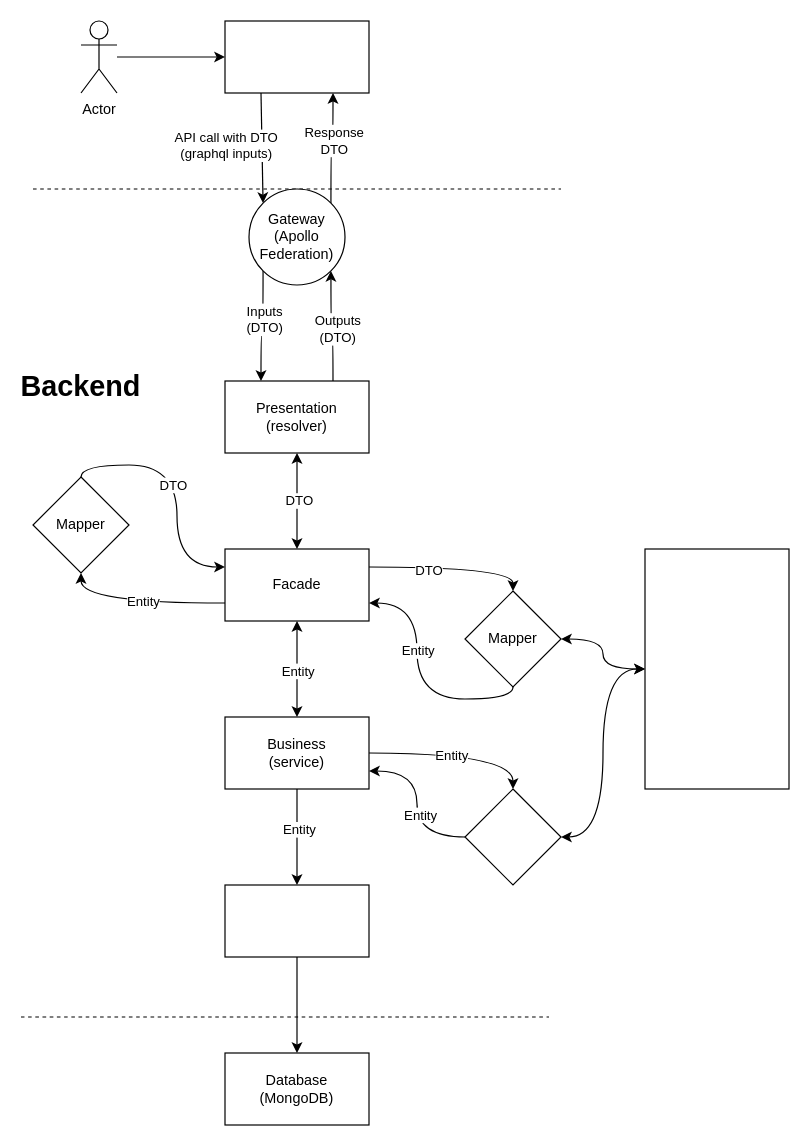
The diagram is 810 pixels wide and 1146 high, and some of its shapes have lost their labels. The centre of each missing label's shape, as x and y in pixels:
"Domain (entities, exception, ...)" belongs at pixel 716 668.
"Frontend" belongs at pixel 296 56.
"Logic" belongs at pixel 512 836.
"Persistence (repository)" belongs at pixel 296 920.
